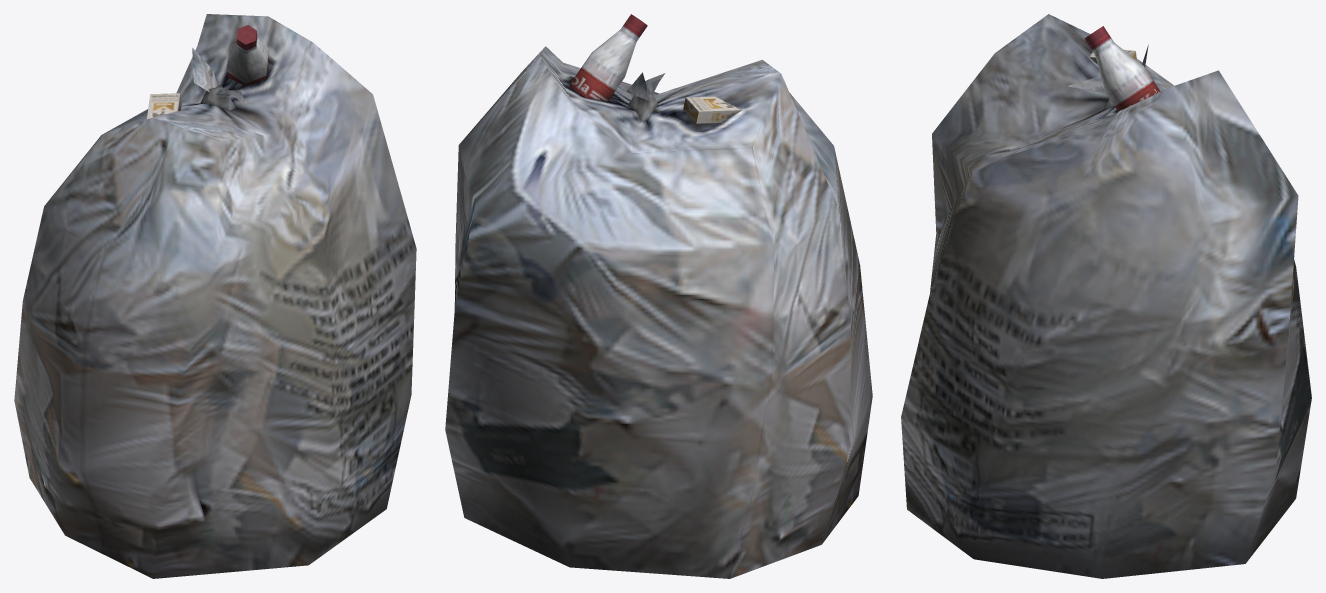
The model's file is mainmusor.fbx.
3 renders of one model, left to right at view 1: azimuth 30°, elevation 25°; view 2: azimuth 150°, elevation 25°; view 3: azimuth 270°, elevation 25°, orthographic. The views are drawn at different scales.
Visible parts, largest first — view 1: rubbish_01; view 2: rubbish_01; view 3: rubbish_01.
Boxes of the visible parts, box(x1,y1,x2,y2) form: rubbish_01: box(14, 14, 416, 578); rubbish_01: box(445, 14, 872, 578); rubbish_01: box(901, 14, 1311, 578).
Bounding box in the file's own units: 101 × 133 × 98.4.
1 material, 1 textured.
